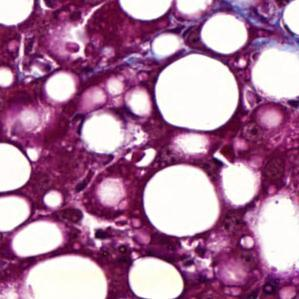steatosis: (156, 53, 240, 132), (144, 165, 220, 242), (127, 257, 185, 299), (0, 140, 31, 192), (1, 0, 34, 28)
